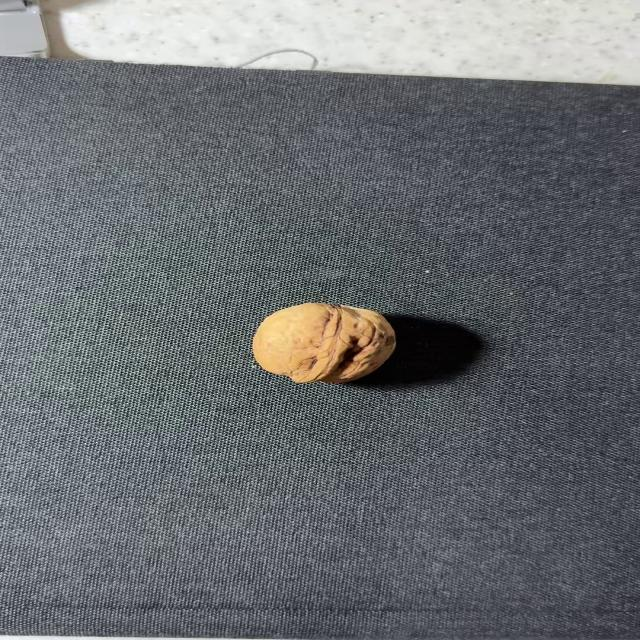nuts-good: (253, 303, 395, 383)
